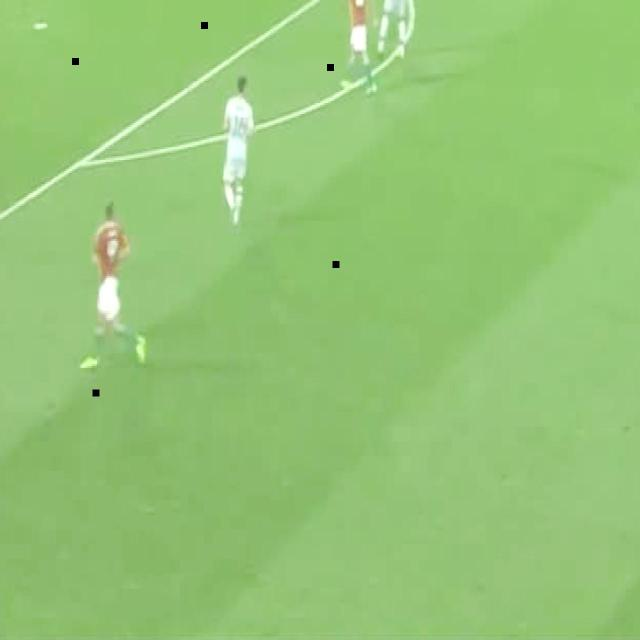player-white: (82, 203, 146, 373), (224, 74, 254, 228), (338, 0, 374, 96), (378, 0, 410, 59)
